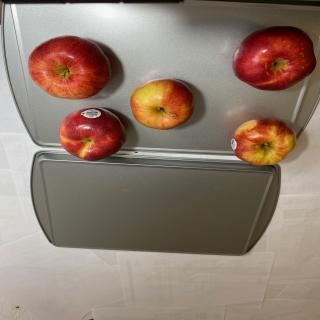Apple: (28, 35, 112, 100), (232, 26, 316, 90), (59, 107, 127, 161), (130, 78, 194, 130), (231, 118, 297, 166)
